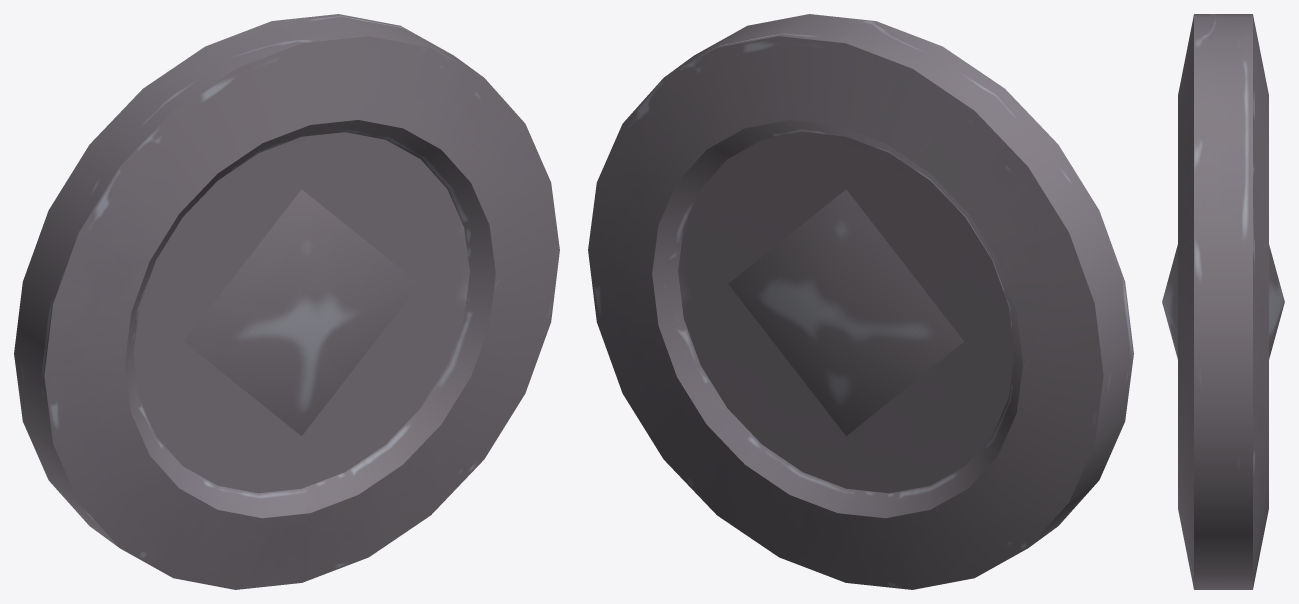
Rendered from Coin.fbx.
The picture shows the model from 3 angles, left to right: view 1: azimuth 30°, elevation 25°; view 2: azimuth 150°, elevation 25°; view 3: azimuth 270°, elevation 25°; orthographic projection. The views are drawn at different scales.
Parts seen in each view (by area): view 1: Coin; view 2: Coin; view 3: Coin.
Boxes of the visible parts, bbox=[...] form: Coin: bbox=[14, 14, 559, 589]; Coin: bbox=[588, 14, 1133, 589]; Coin: bbox=[1162, 14, 1284, 589].
Size of the model in its own units: 6.83 by 6.83 by 1.45.
